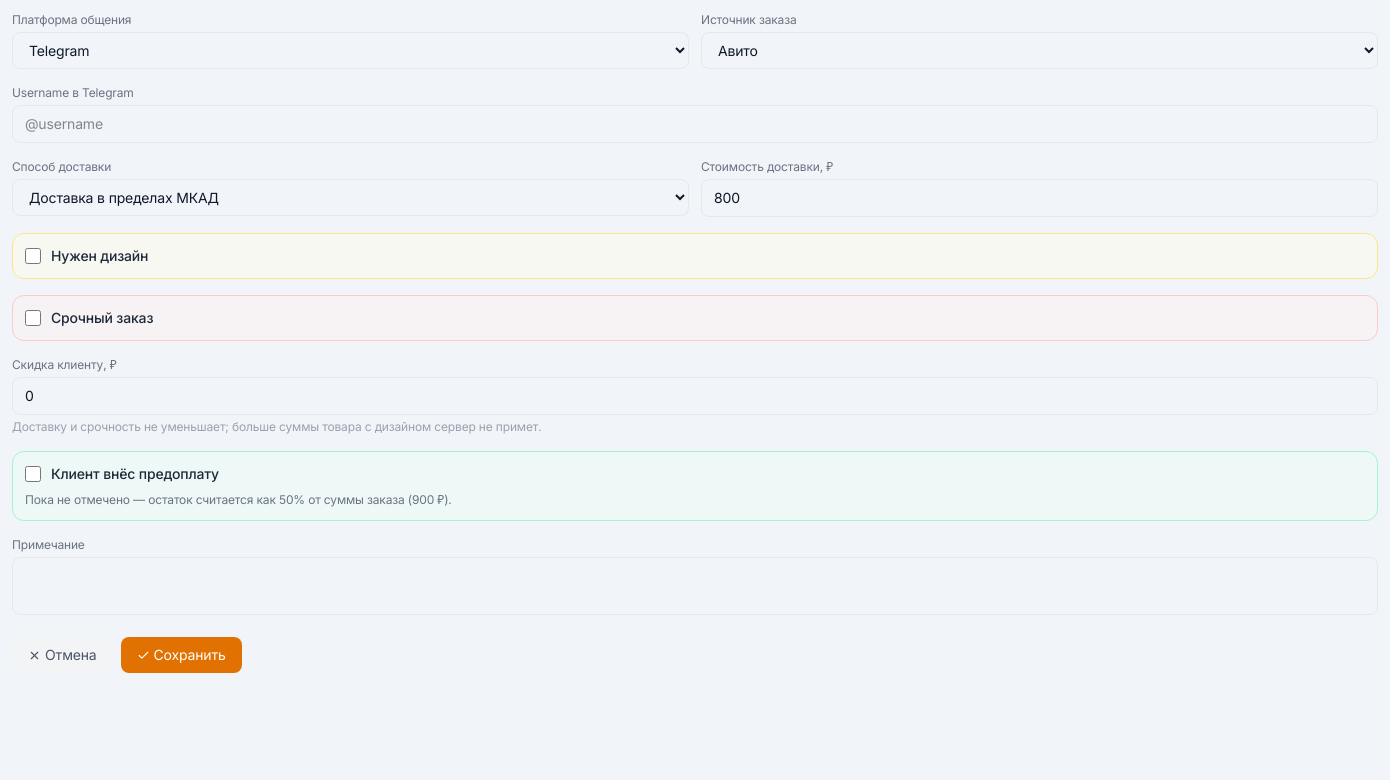
Test: editing a canvas preserves the production courier option and clears pickup charges
This screenshot has width=1390, height=780.
Select "Самовывоз" in the dropdown named "Способ доставки" at (350, 198), box [12, 179, 689, 216]
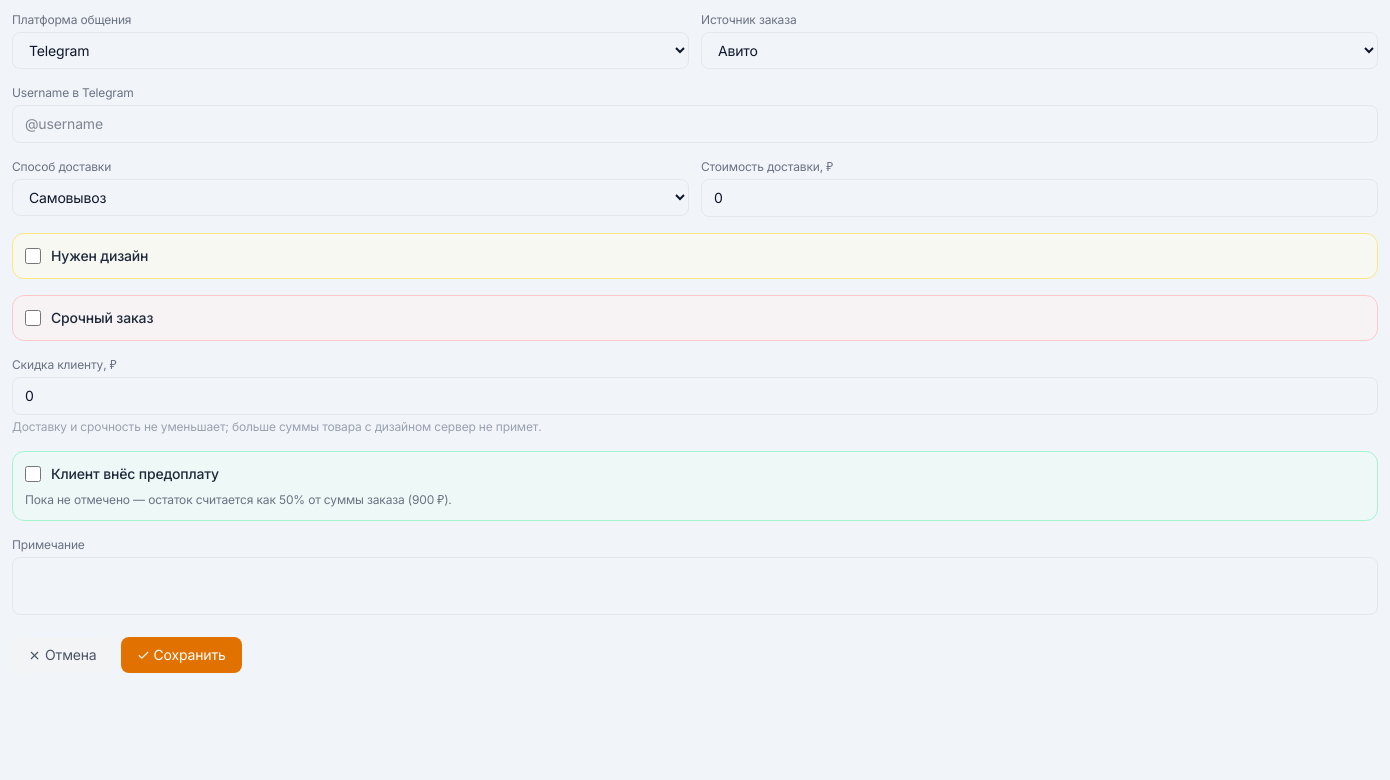
Expected: the 1st number field holds "0", [701, 179, 1378, 217]
